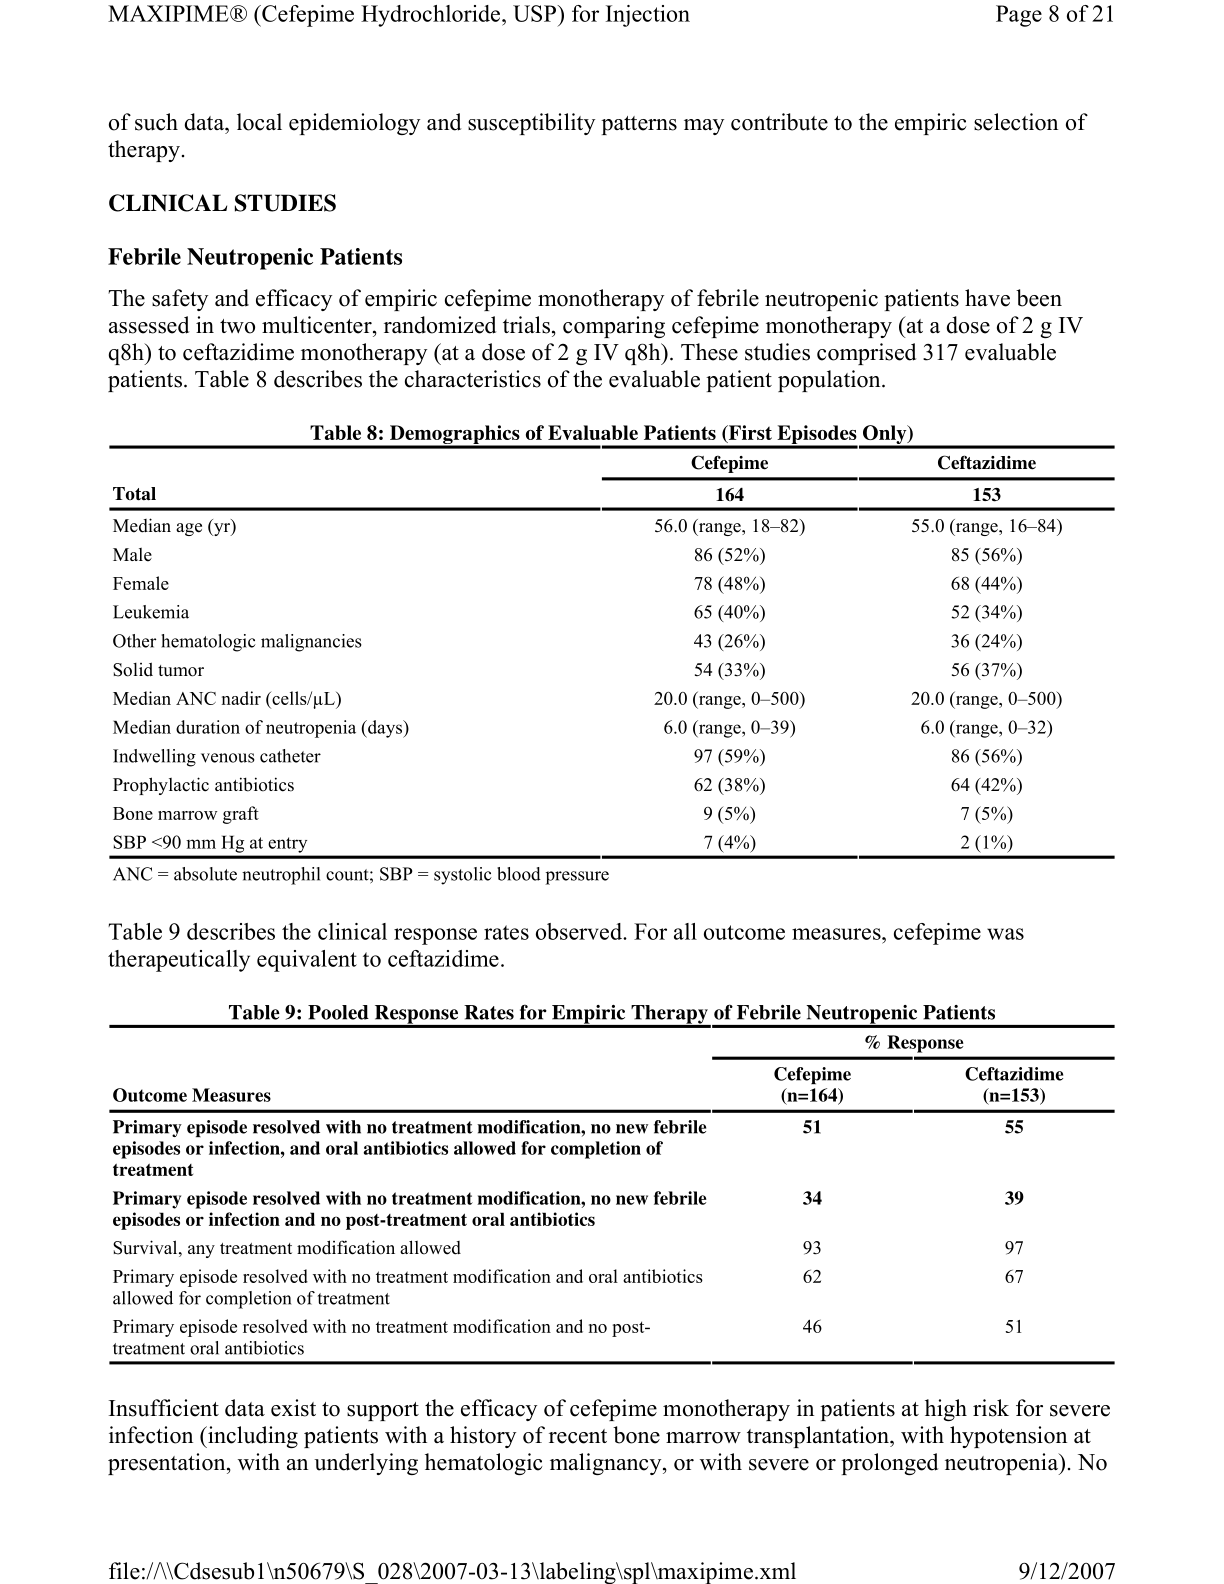partial_lined: (107, 444, 1121, 863)
partial_lined_merged_cells: (107, 1022, 1119, 1368)
